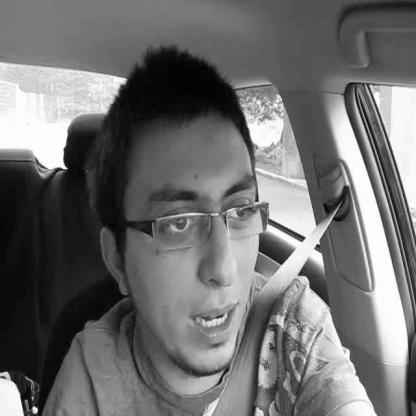seatbelt: (90, 41, 298, 416)
